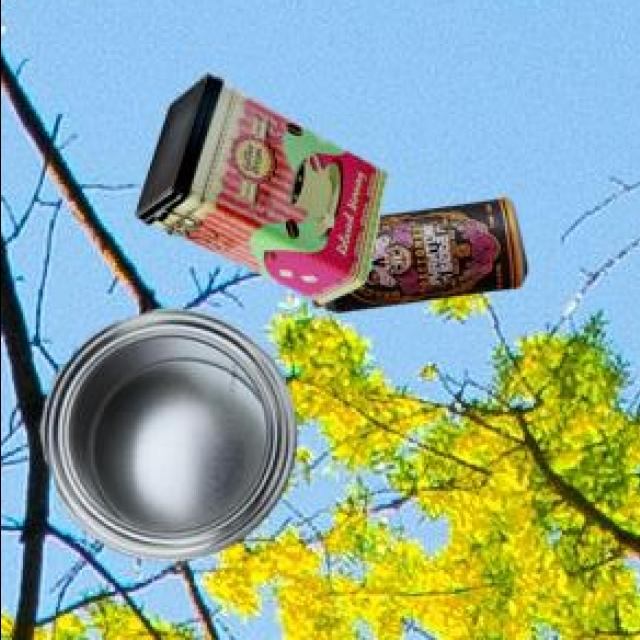logam: (36, 312, 293, 564), (133, 78, 382, 306), (308, 203, 523, 315)
